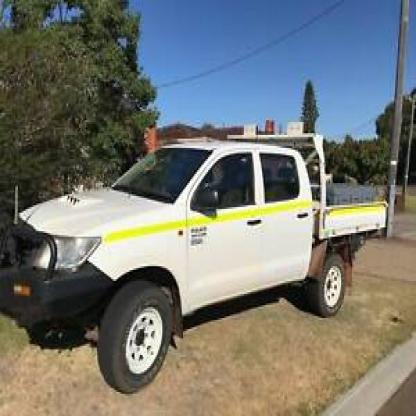light_vehicle: (1, 128, 414, 394)
